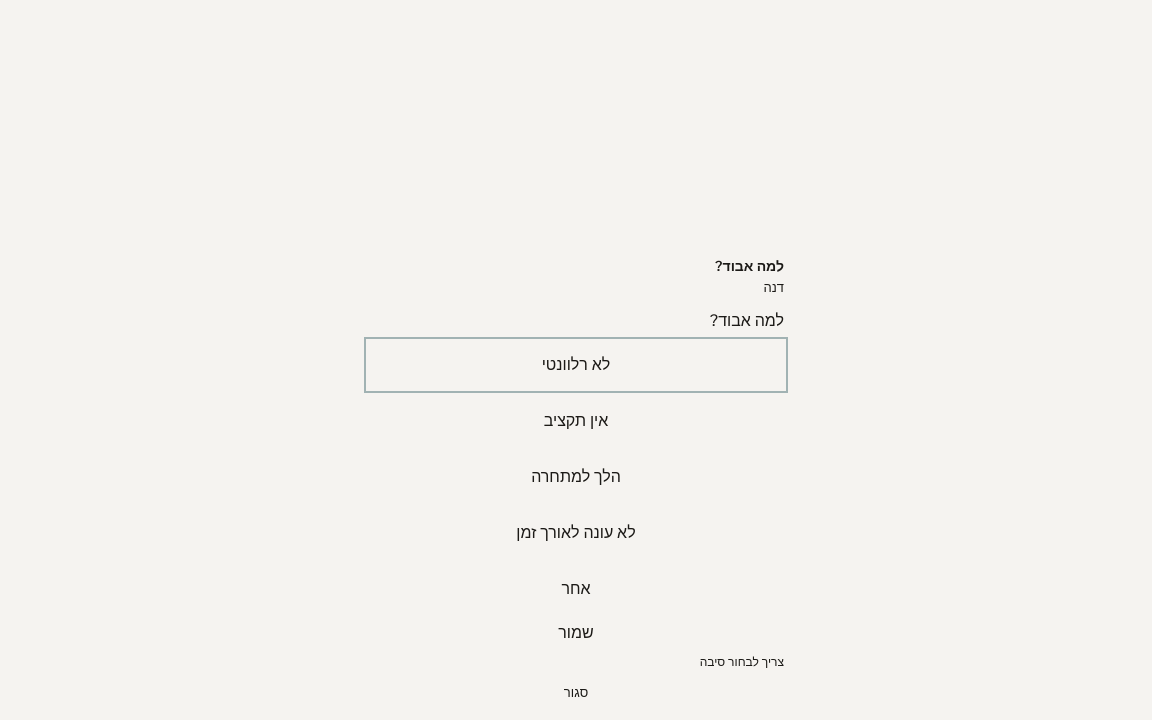
outcome sheet › names the free-text reason field for assistive technology
The width and height of the screenshot is (1152, 720).
Click the radio button with test id "lost-reason-אחר" at {"x": 576, "y": 589}, box [368,565,784,613]
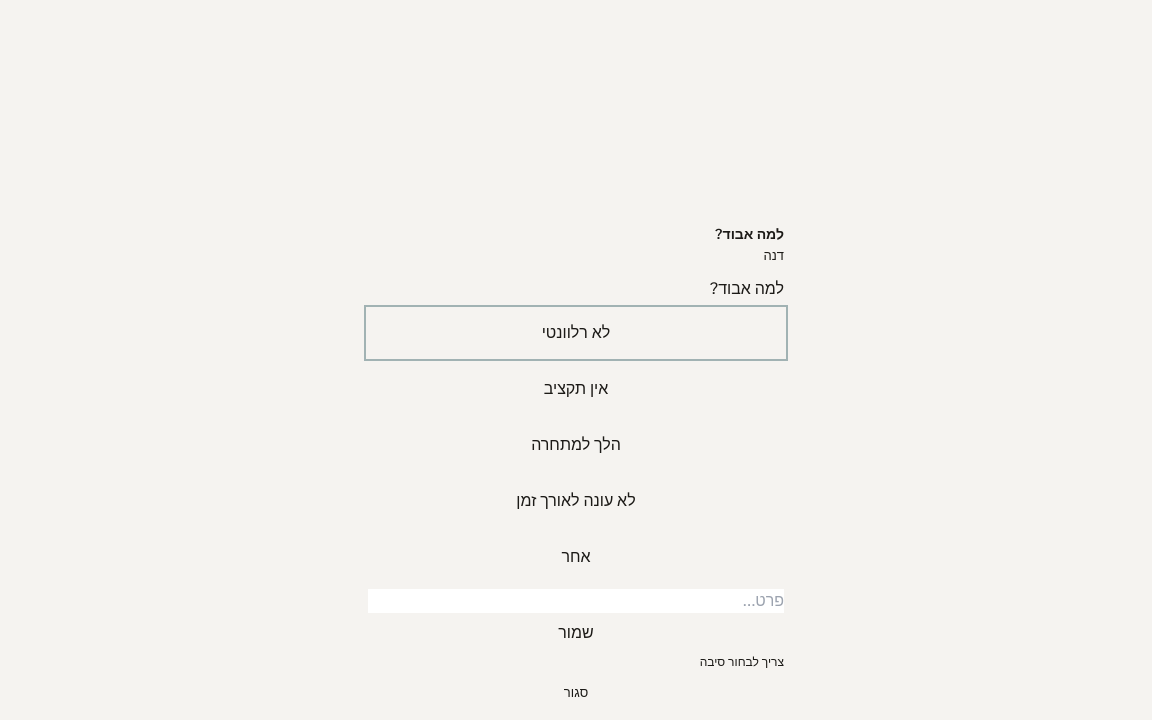
Now the field named "סיבה אחרת" is shown, box [368,589,784,613]
